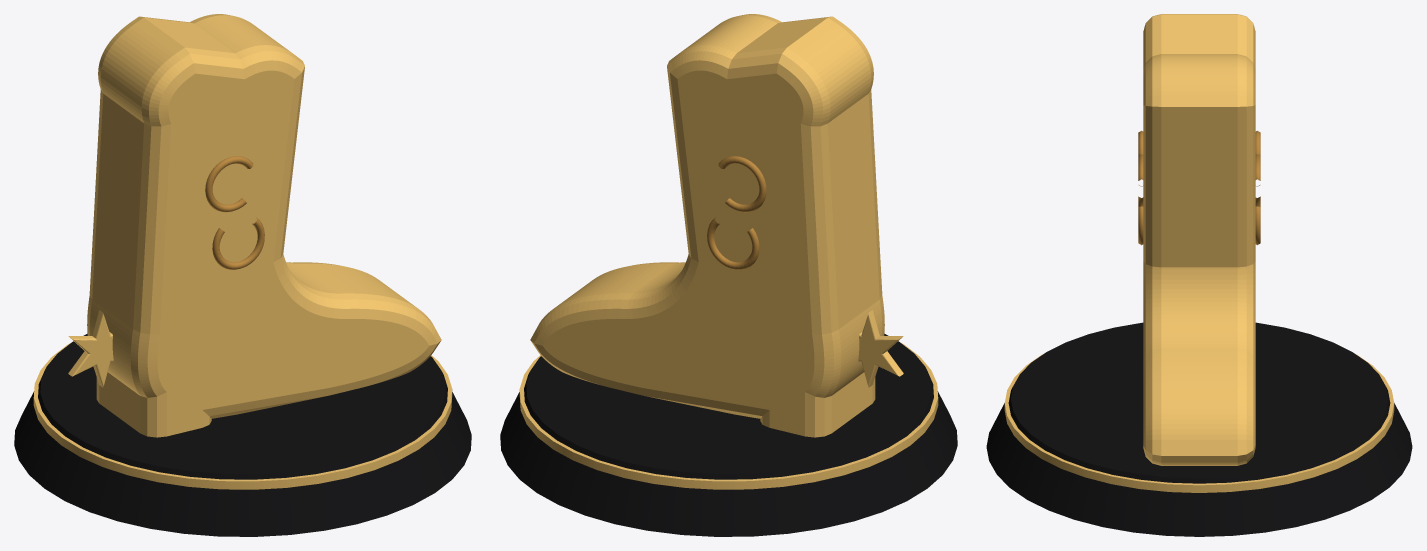
File: gold-boot.glb
The picture shows the model from 3 angles, left to right: view 1: azimuth 30°, elevation 25°; view 2: azimuth 150°, elevation 25°; view 3: azimuth 270°, elevation 25°; orthographic projection. The views are drawn at different scales.
Visible parts, largest first — view 1: gold, black, gold-dark; view 2: gold, black, gold-dark; view 3: gold, black, gold-dark.
Part boxes in pixels (<box>): gold: <box>33,14,452,489</box>; black: <box>14,333,471,536</box>; gold-dark: <box>205,156,264,269</box>; gold: <box>519,14,938,489</box>; black: <box>500,333,957,536</box>; gold-dark: <box>707,156,766,269</box>; gold: <box>1004,14,1394,492</box>; black: <box>986,322,1412,536</box>; gold-dark: <box>1138,130,1260,245</box>.
Bounding box in the file's own units: 0.28 × 0.2878 × 0.28.
